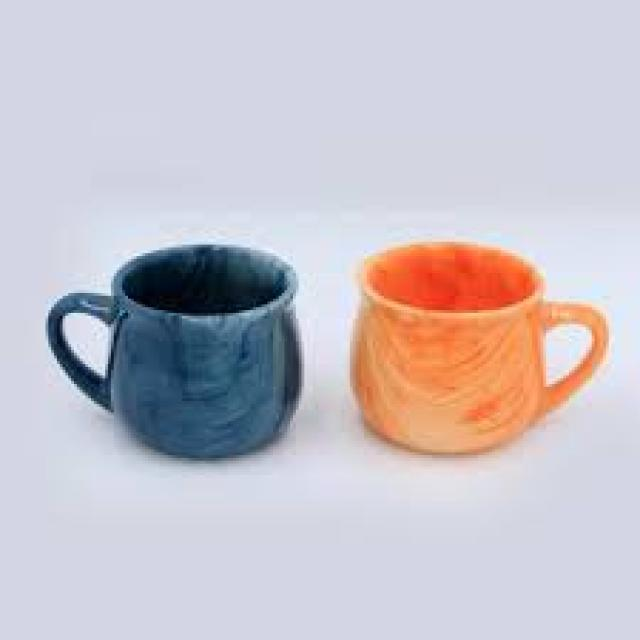taza: (349, 238, 611, 458), (47, 241, 303, 461)
